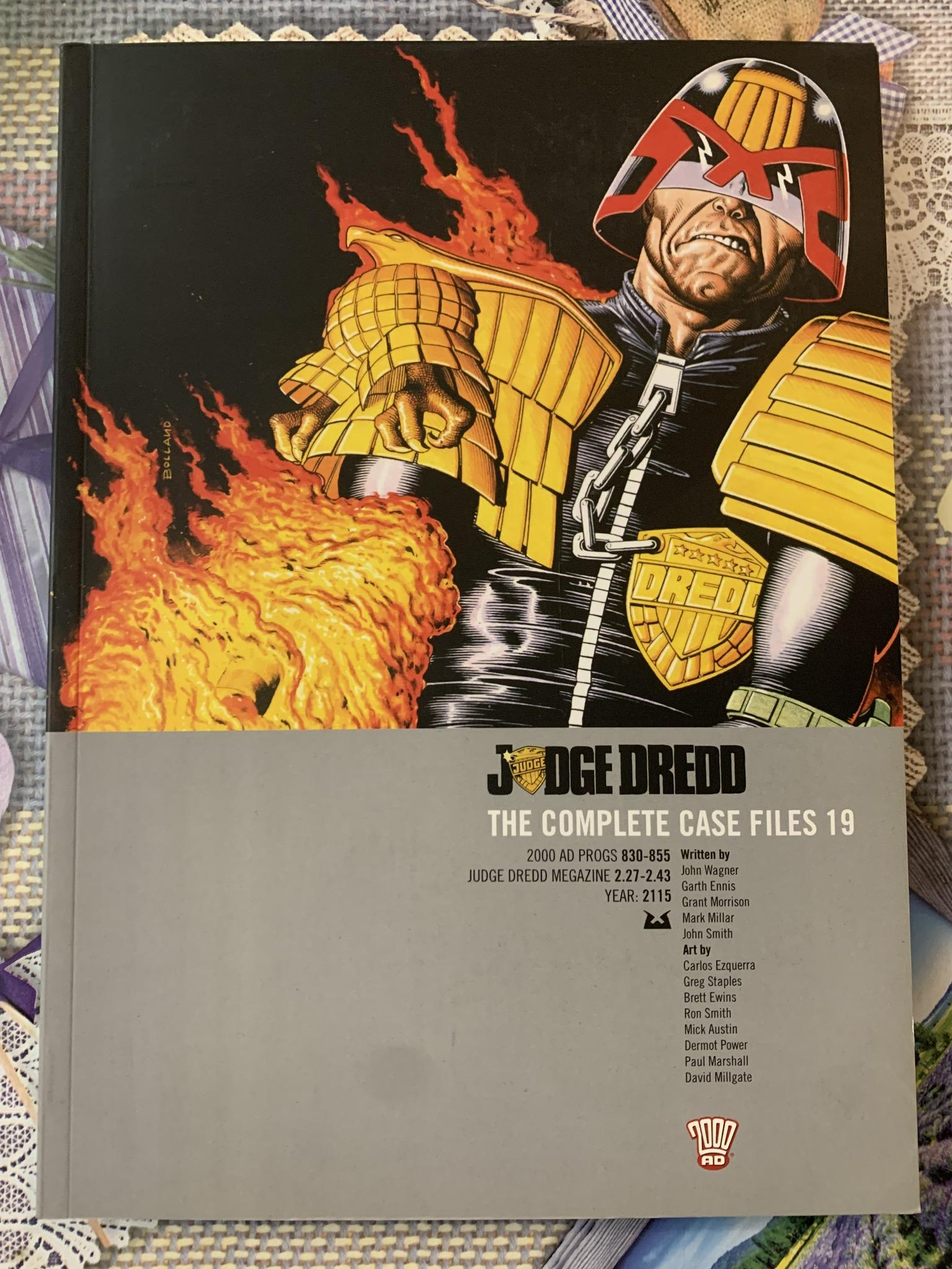comic: (35, 41, 917, 1218)
